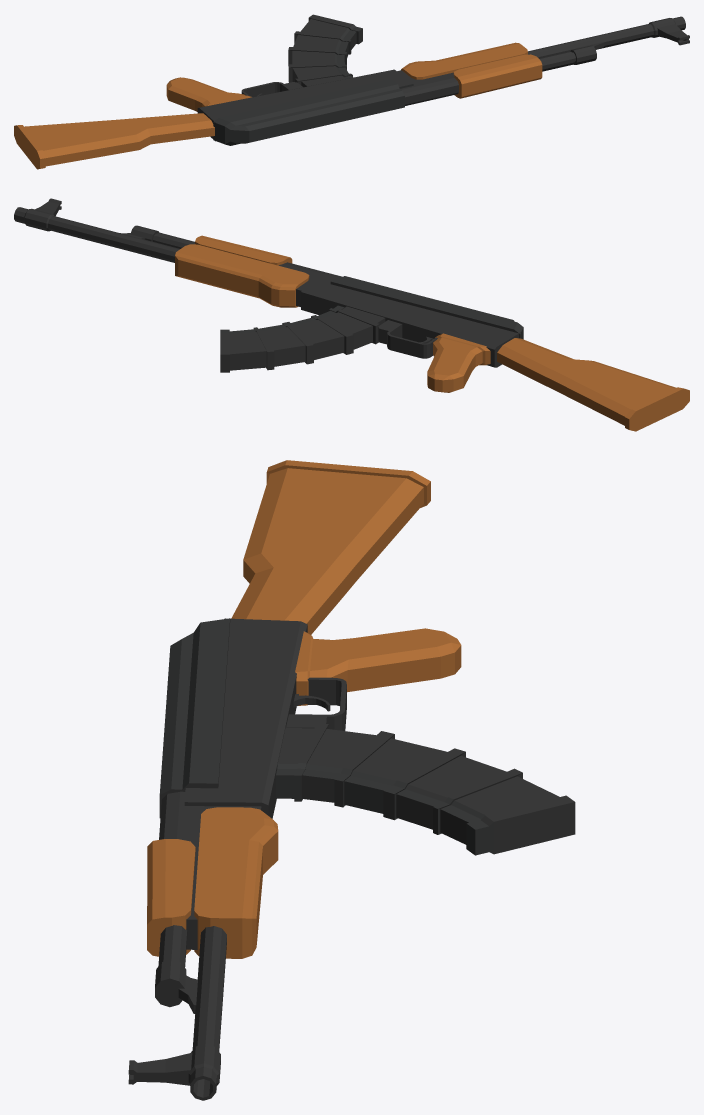
The model's file is Guns_2.fbx.
3 renders of one model, top to bottom at view 1: azimuth 30°, elevation 25°; view 2: azimuth 150°, elevation 25°; view 3: azimuth 270°, elevation 25°, orthographic. The views are drawn at different scales.
Parts seen in each view (by area): view 1: Gun-2; view 2: Gun-2; view 3: Gun-2.
Boxes of the visible parts, x1,y1,x2,y2 form: Gun-2: [14, 14, 689, 169]; Gun-2: [14, 198, 689, 431]; Gun-2: [128, 460, 575, 1100].
Bounding box in the file's own units: 3.37 × 0.1218 × 1.04.
